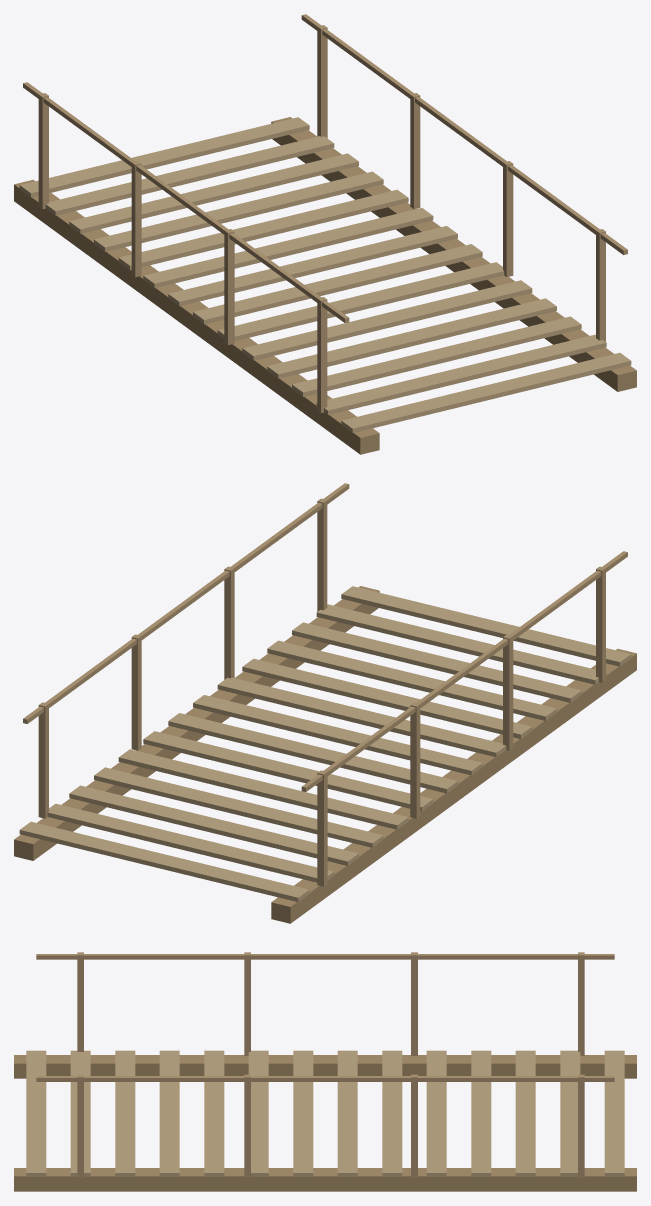
File: wood_medium.glb
3 renders of one model, top to bottom at view 1: azimuth 30°, elevation 25°; view 2: azimuth 150°, elevation 25°; view 3: azimuth 270°, elevation 25°, orthographic. The views are drawn at different scales.
Visible parts, largest first — view 1: BridgeWoodMedium; view 2: BridgeWoodMedium; view 3: BridgeWoodMedium.
Boxes of the visible parts, <box> form: BridgeWoodMedium: <box>14,14,636,454</box>; BridgeWoodMedium: <box>14,483,636,923</box>; BridgeWoodMedium: <box>14,952,636,1191</box>.
Size of the model in its own units: 2.66 by 1.15 by 5.6.
